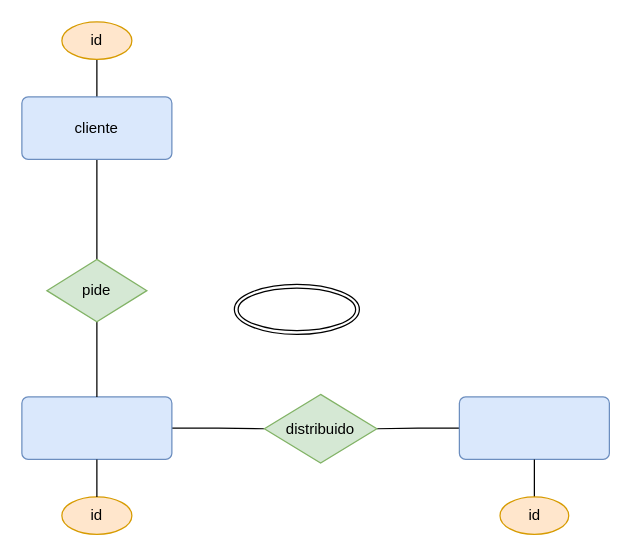
Some shapes in this 631 by 556 pixel diagram are drawn without their labels. The shapes that lost their labels are listed below. From the top down, each one's centre as x and y in pixels, then its label:
At (296,308): "Attribute".
At (96,427): "artículo".
At (533,427): "fábrica".
